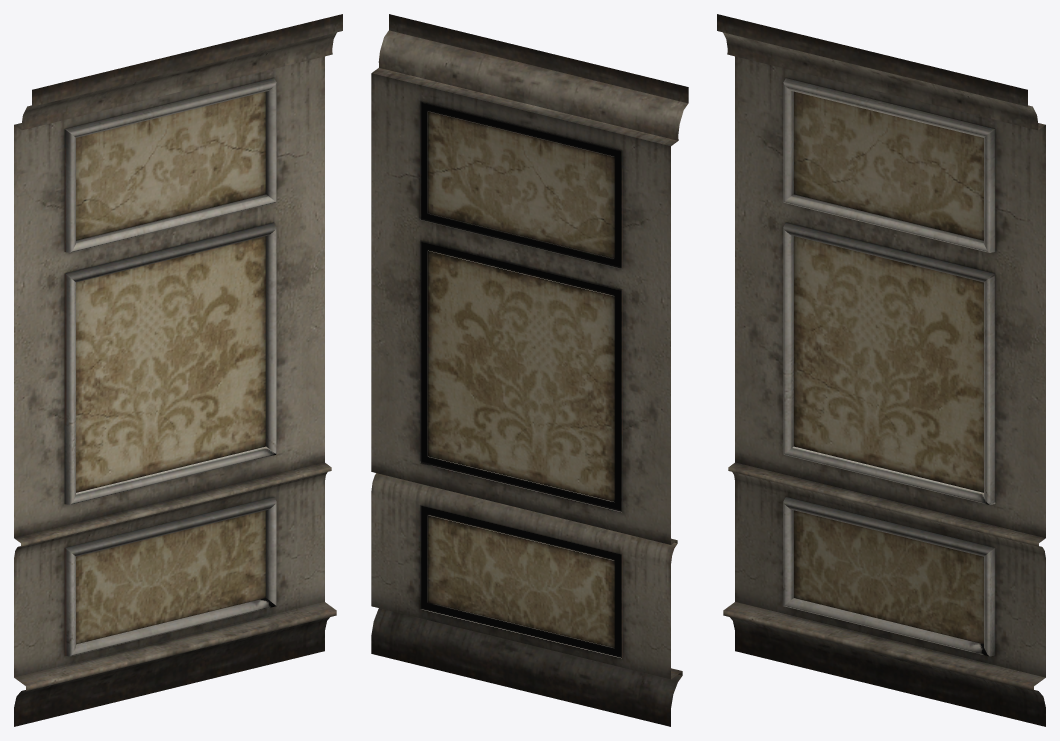
Rendered from short.dae.
3 views of the same model, side by side, from view 1: azimuth 30°, elevation 25°; view 2: azimuth 150°, elevation 25°; view 3: azimuth 330°, elevation 25° (orthographic). The views are drawn at different scales.
Visible parts, largest first — view 1: mansionbase_short; view 2: mansionbase_short; view 3: mansionbase_short.
Boxes of the visible parts, left/top/right/bottom form: mansionbase_short: left=14, top=14, right=342, bottom=726; mansionbase_short: left=371, top=14, right=688, bottom=726; mansionbase_short: left=717, top=14, right=1045, bottom=726.
Size of the model in its own units: 2 by 4 by 0.2045.
